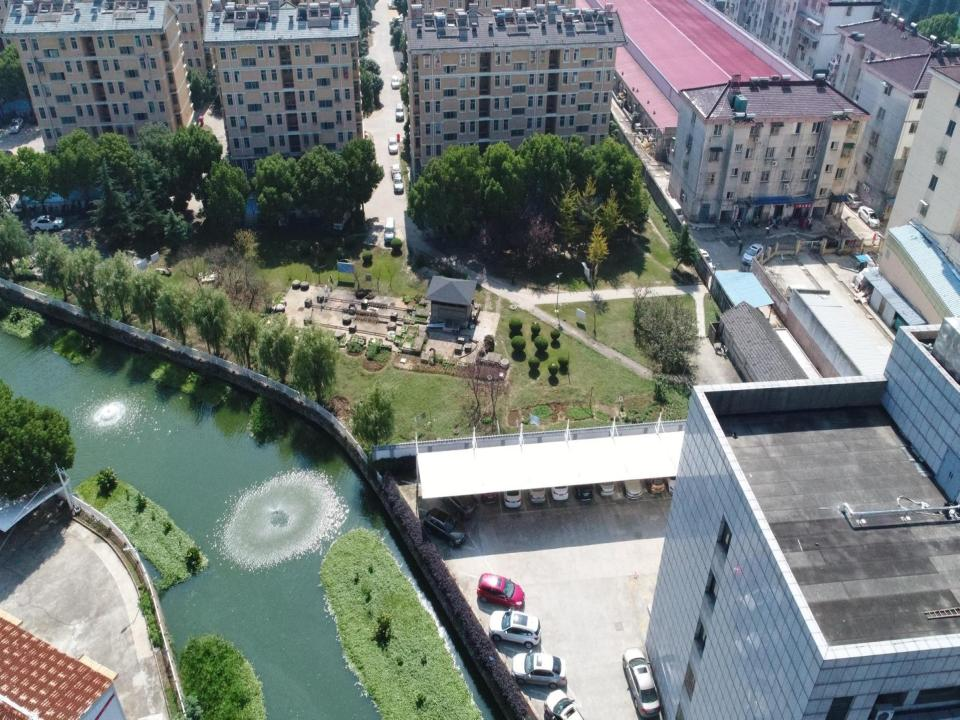car: (620, 646, 663, 718), (509, 648, 569, 692), (486, 606, 542, 647), (421, 504, 469, 550), (476, 570, 525, 611), (544, 689, 584, 719), (445, 487, 477, 511), (25, 216, 62, 234), (859, 205, 883, 229), (500, 485, 523, 510), (698, 245, 716, 275), (744, 241, 764, 267), (529, 485, 548, 510), (622, 480, 646, 499), (5, 115, 25, 137), (571, 488, 594, 507), (597, 479, 618, 499), (333, 208, 350, 232), (478, 487, 499, 506), (391, 173, 408, 196), (644, 475, 666, 491), (551, 487, 570, 503), (845, 192, 861, 210), (388, 136, 400, 153), (395, 101, 404, 119), (390, 74, 400, 89), (670, 476, 678, 491), (395, 161, 400, 178)
van: (383, 216, 396, 244)
